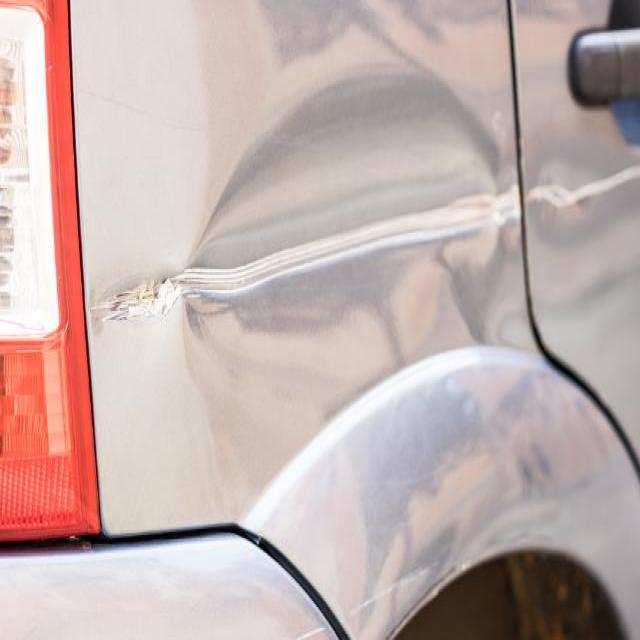Fender: (104, 17, 531, 366)
